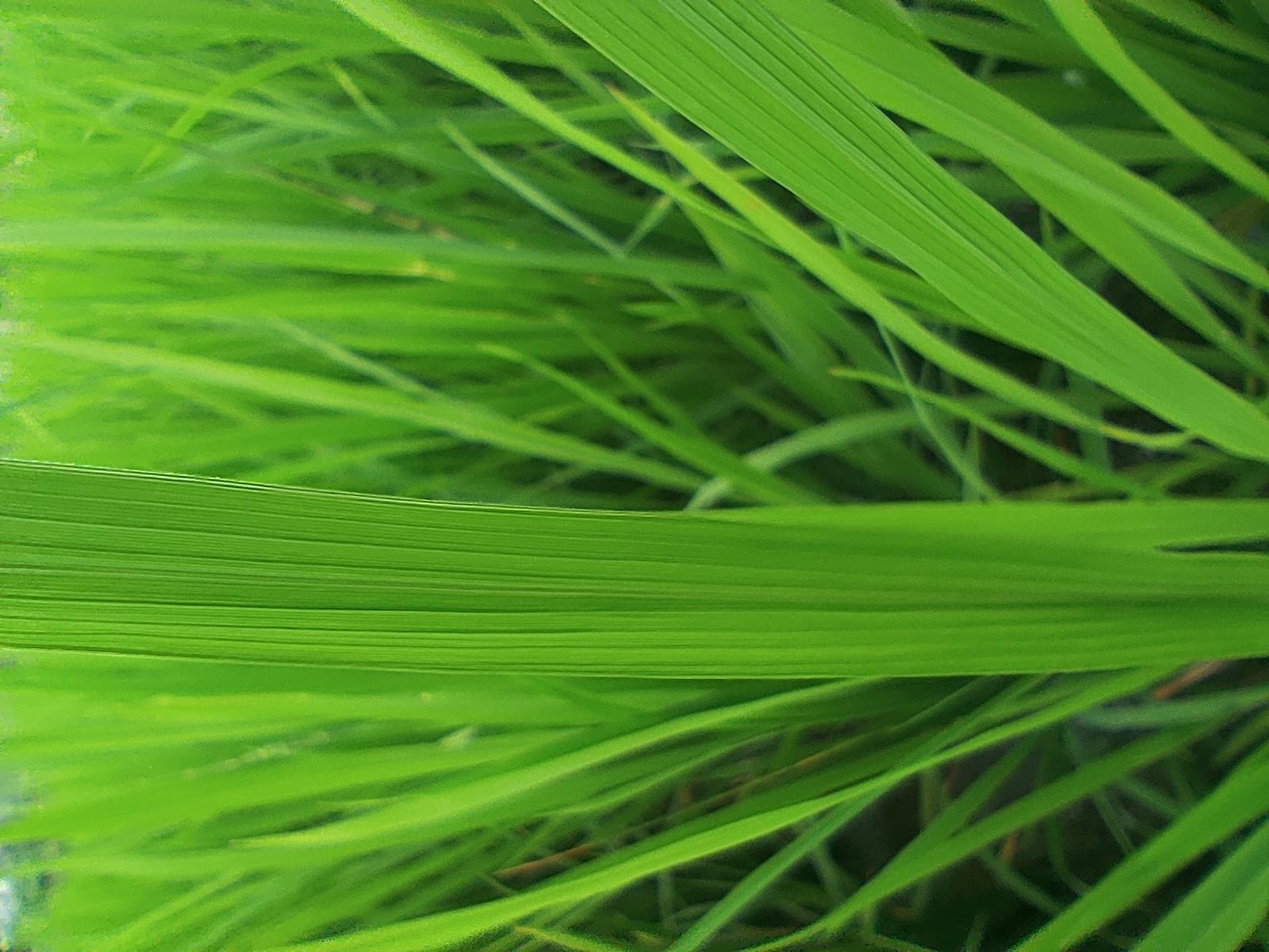Healthy: (368, 1, 655, 951)
